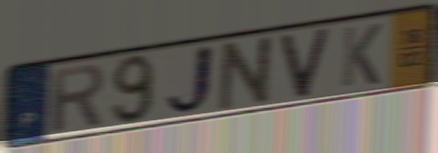9: (109, 53, 159, 127)
J: (163, 42, 217, 118)
K: (339, 21, 384, 90)
N: (215, 31, 280, 114)
R: (48, 61, 107, 136)
V: (278, 24, 334, 101)
